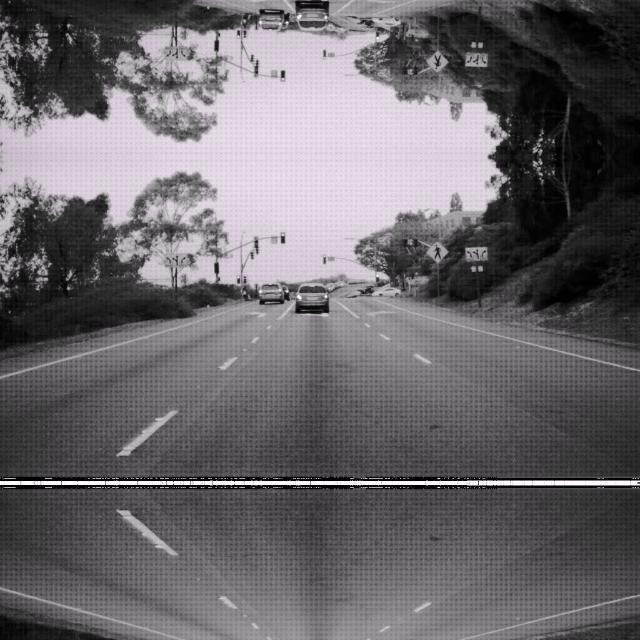pedestrianCrossing: (426, 49, 448, 72), (426, 240, 448, 262)
